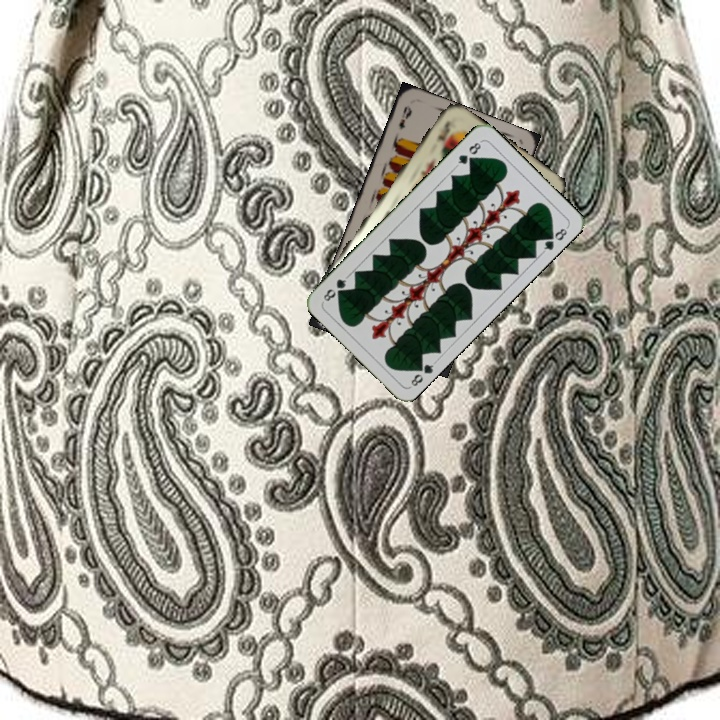E9: (395, 101, 415, 132)
G8: (406, 358, 439, 390), (452, 137, 484, 169)
SK: (432, 117, 451, 144)
